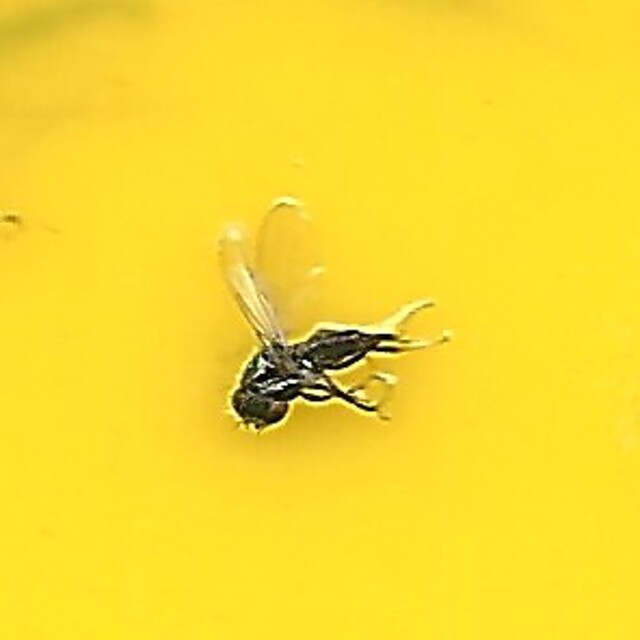Brachycera: (216, 199, 424, 441)
